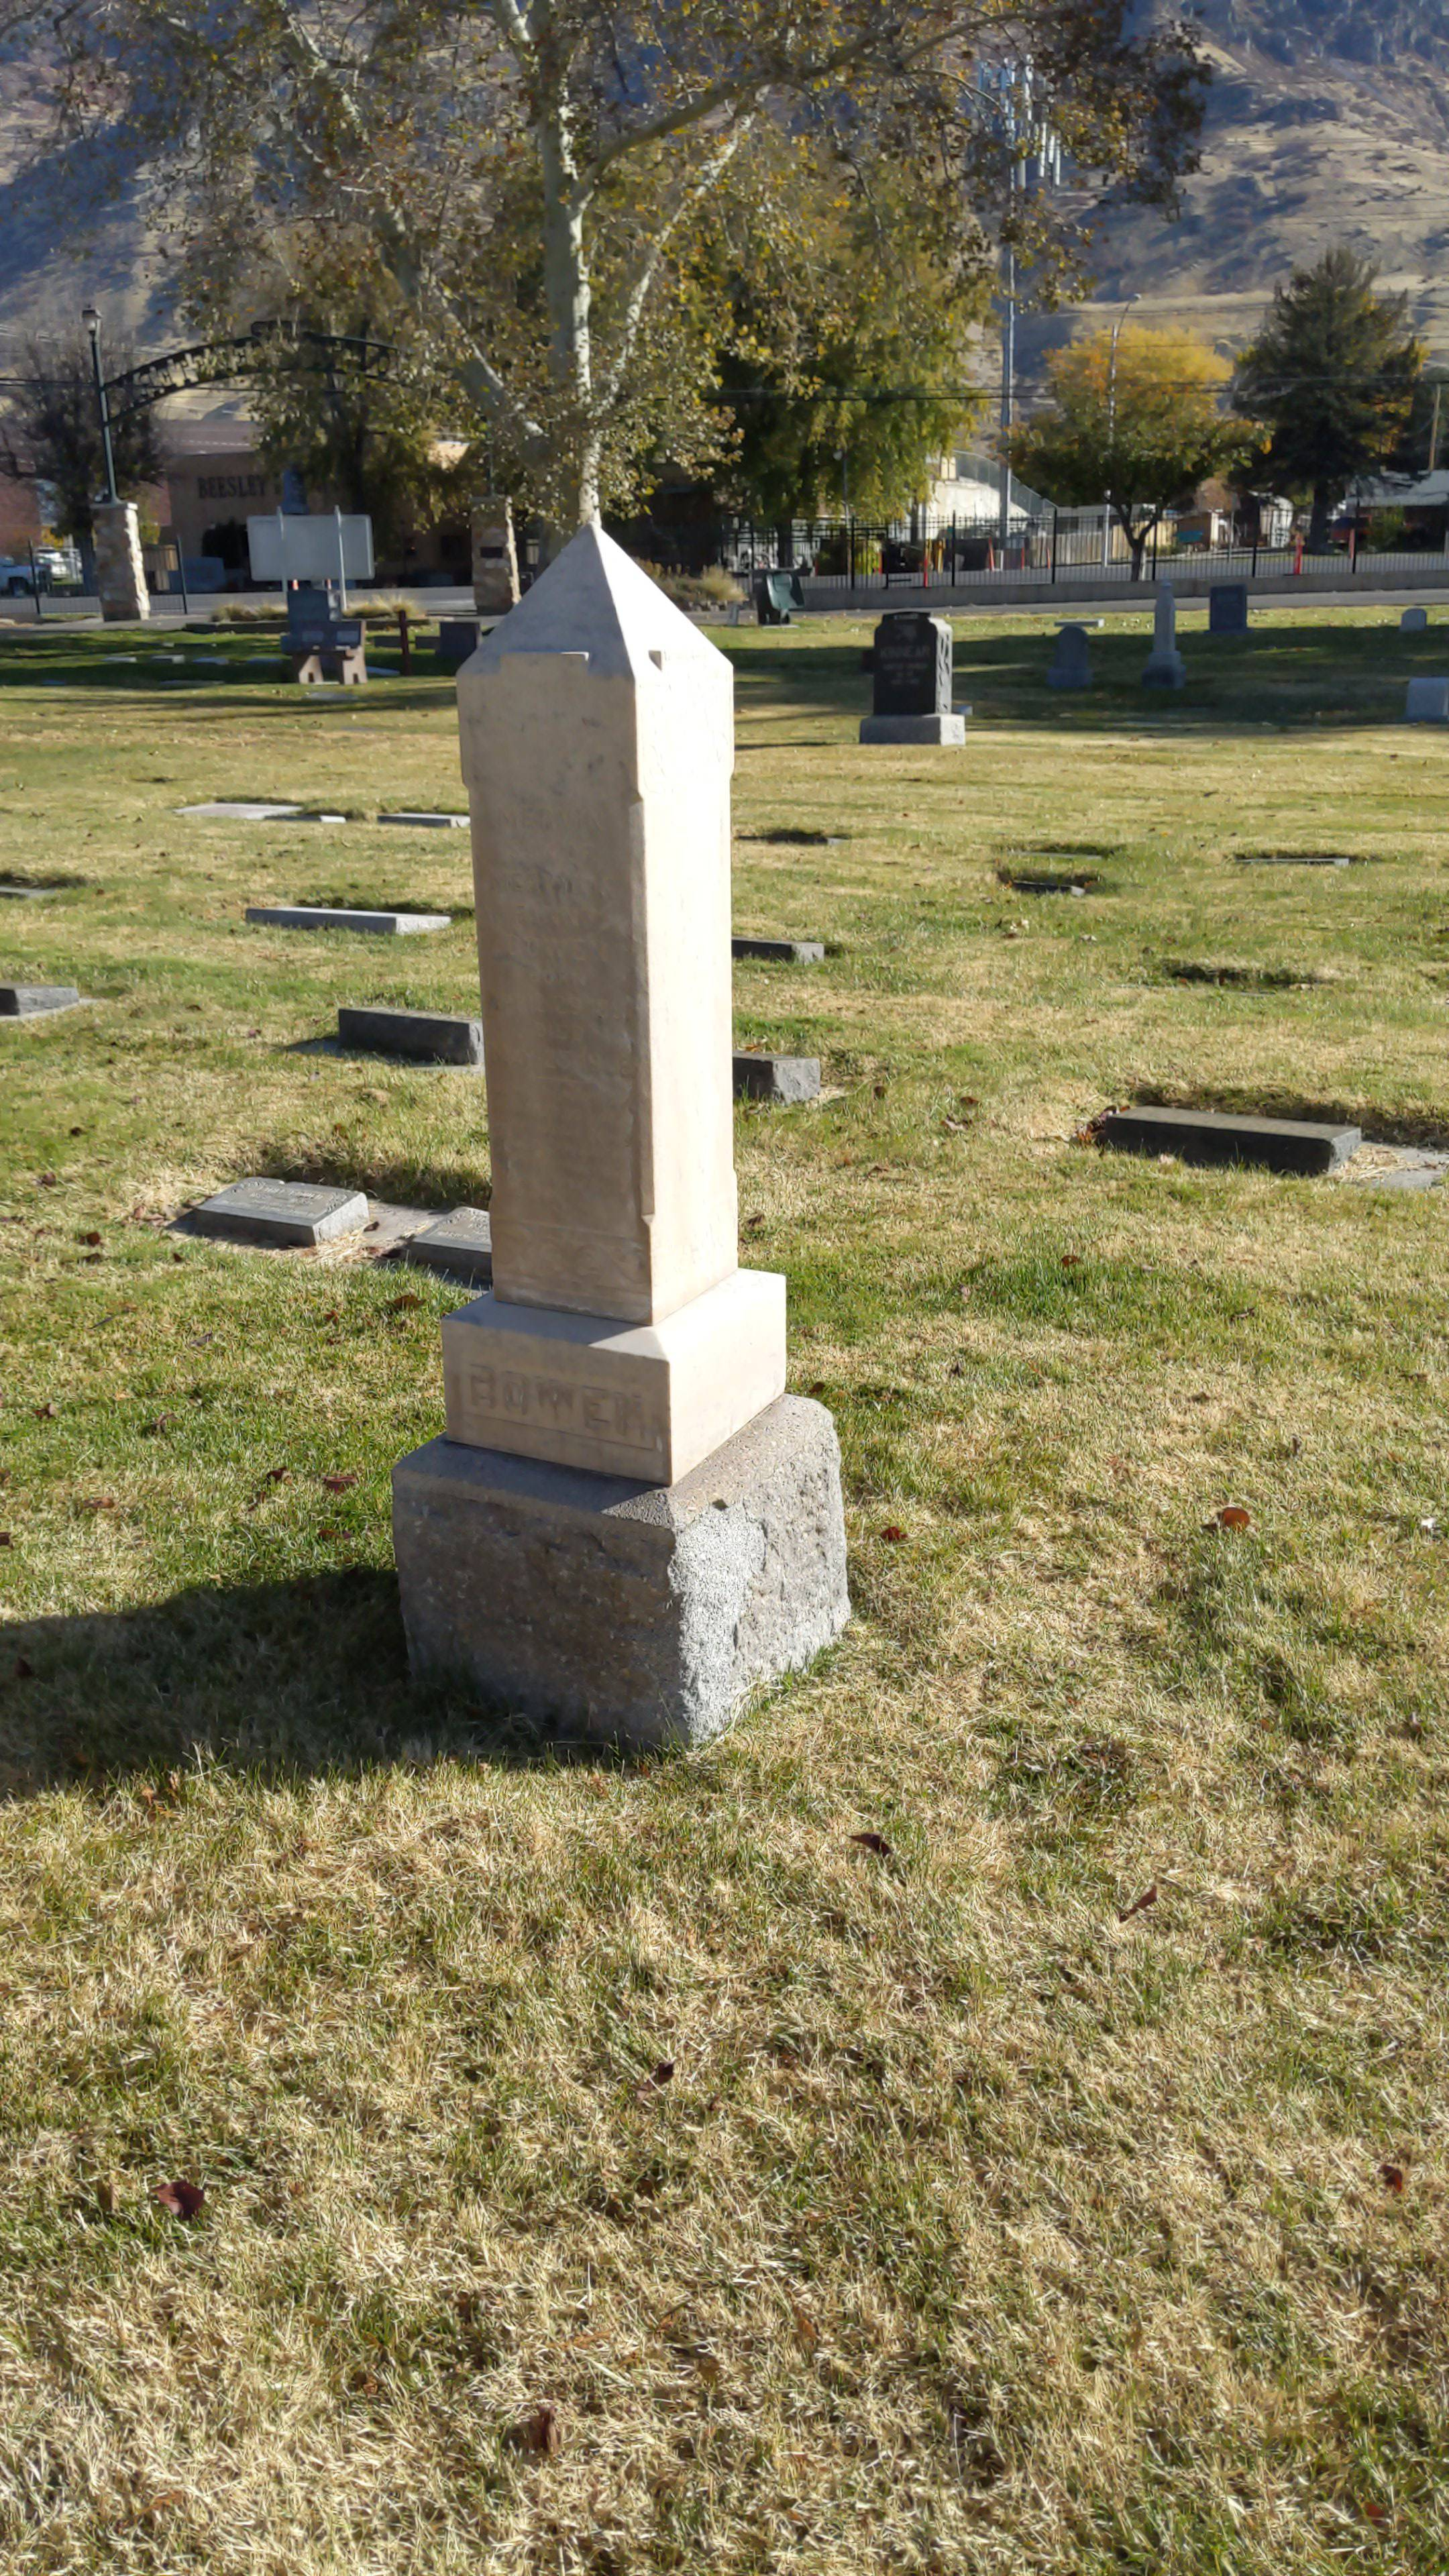obelisk: (435, 527, 789, 1491)
